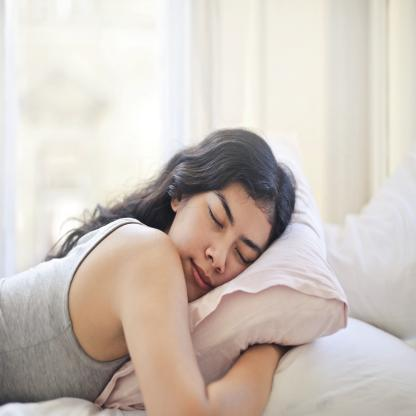Eye: (208, 204, 224, 231), (233, 246, 251, 266)
Mouth: (190, 257, 214, 292)
Nose: (205, 235, 231, 273)
